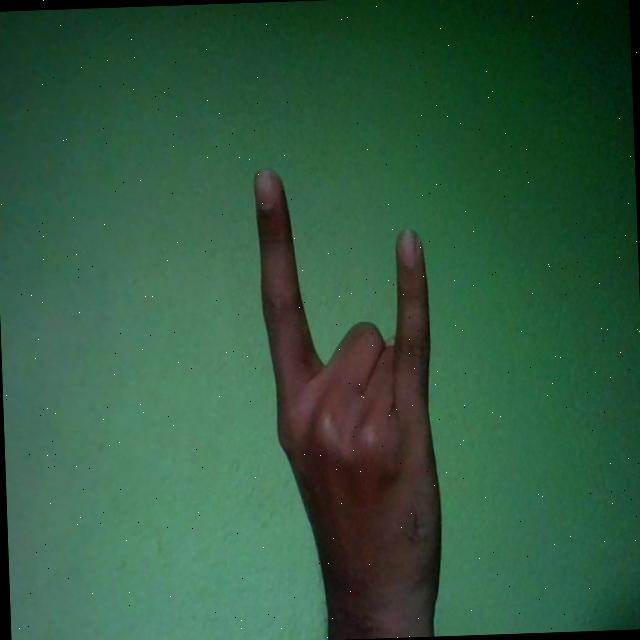open Plam: (253, 159, 447, 640)
